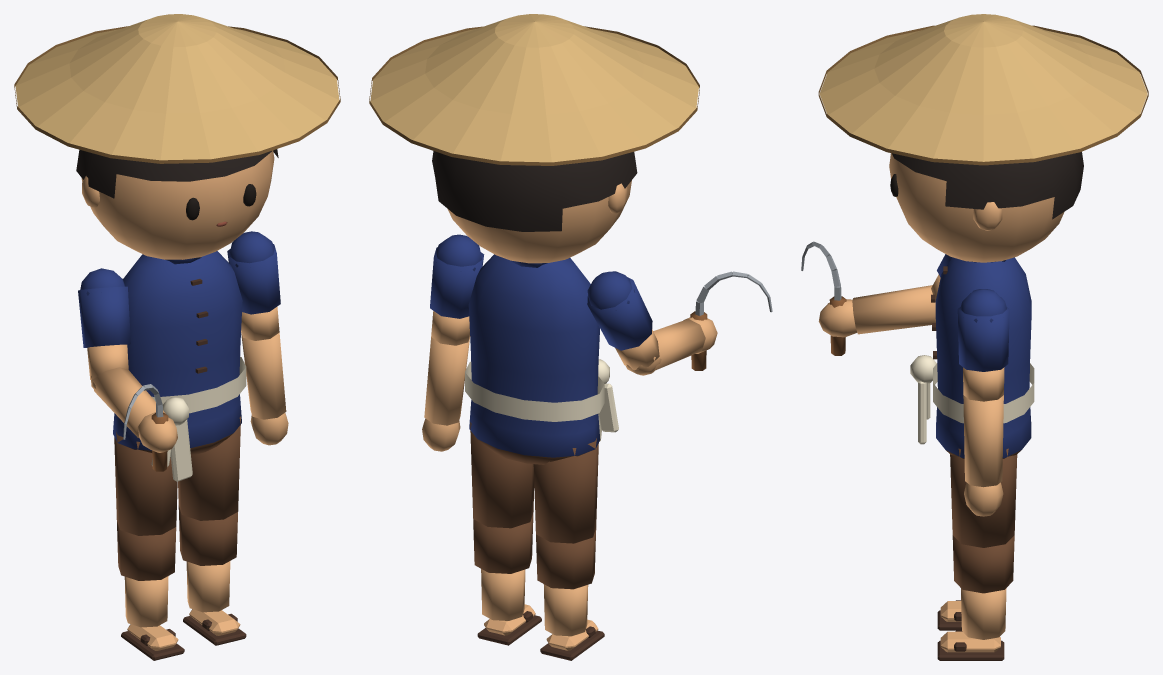
File: era1_farmer_sickle.glb
3 renders of one model, left to right at view 1: azimuth 30°, elevation 25°; view 2: azimuth 150°, elevation 25°; view 3: azimuth 270°, elevation 25°, orthographic.
Parts seen in each view (by area): view 1: head, body, shin_L, shin_R, leg_R, arm_R, arm_L, leg_L, forearm_L, forearm_R, prop_sickle; view 2: head, body, shin_L, shin_R, leg_R, arm_R, leg_L, arm_L, forearm_L, forearm_R, prop_sickle; view 3: head, body, shin_L, arm_L, forearm_L, forearm_R, leg_L, prop_sickle, shin_R.
Part boxes in pixels (box(x1,y1,x2,y2)): head: box(14, 14, 340, 259); body: box(113, 251, 246, 481); shin_L: box(178, 505, 246, 645); shin_R: box(117, 521, 184, 660); leg_R: box(114, 432, 177, 535); arm_R: box(78, 268, 130, 388); arm_L: box(227, 231, 280, 340); leg_L: box(178, 416, 240, 520); forearm_L: box(241, 332, 288, 445); forearm_R: box(91, 367, 177, 452); prop_sickle: box(123, 384, 168, 471); head: box(369, 14, 699, 263); body: box(465, 254, 618, 464); shin_L: box(473, 513, 541, 645); shin_R: box(536, 528, 604, 660); leg_R: box(533, 438, 598, 543); arm_R: box(587, 271, 661, 375); leg_L: box(470, 422, 534, 528); arm_L: box(430, 234, 484, 345); forearm_L: box(422, 336, 470, 451); forearm_R: box(626, 317, 717, 375); prop_sickle: box(690, 271, 772, 370); head: box(818, 14, 1148, 262); body: box(910, 257, 1034, 458); shin_L: box(937, 535, 1014, 660); arm_L: box(957, 289, 1009, 401); forearm_L: box(963, 395, 1003, 516); forearm_R: box(818, 285, 935, 337); leg_L: box(950, 448, 1017, 547); prop_sickle: box(801, 241, 846, 355); shin_R: box(937, 600, 961, 630).
Size of the model in its own units: 0.7864 by 1.61 by 0.8212.
